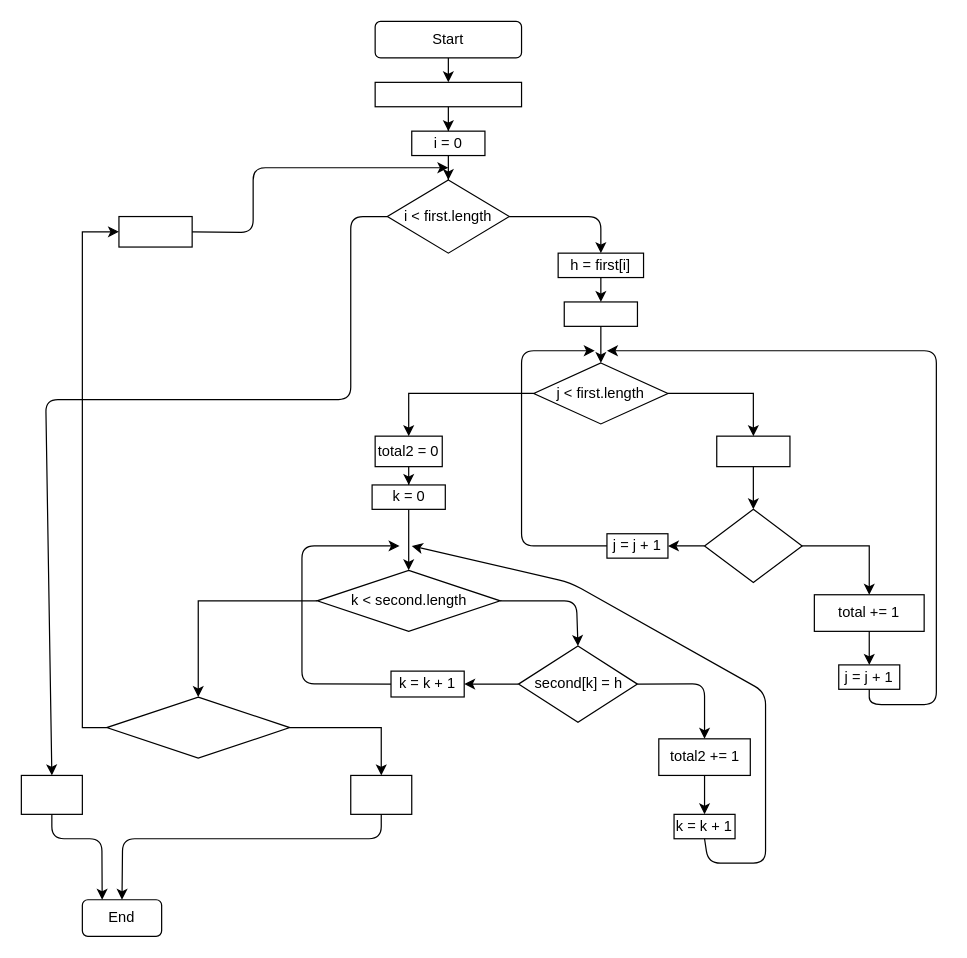
This 967x958 diagram has some shape labels left out. Each missing label, with the box of its shape:
false: (350, 774, 412, 814)
first, second: (374, 81, 522, 107)
h = first[j]: (703, 508, 802, 583)
i = i + 1: (118, 215, 192, 247)
j = i + 1: (563, 301, 637, 326)
total1 = 1: (716, 435, 790, 467)
total1 = total2: (106, 696, 290, 758)
true: (20, 774, 82, 814)
